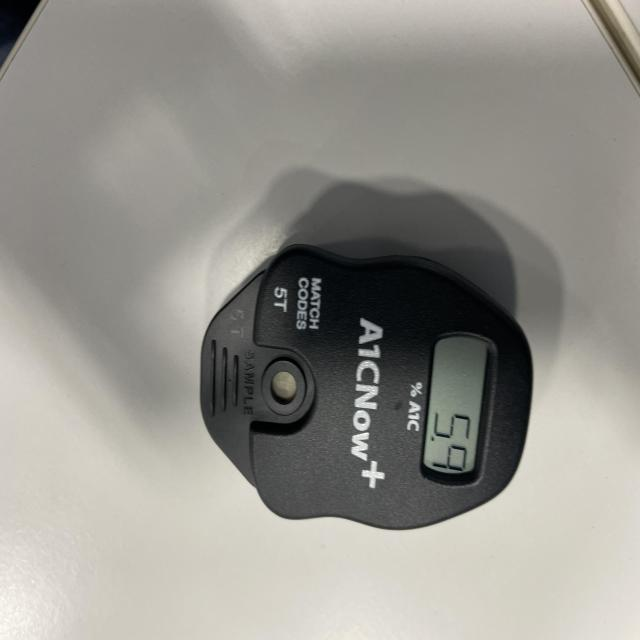hba1c: (199, 244, 534, 533)
